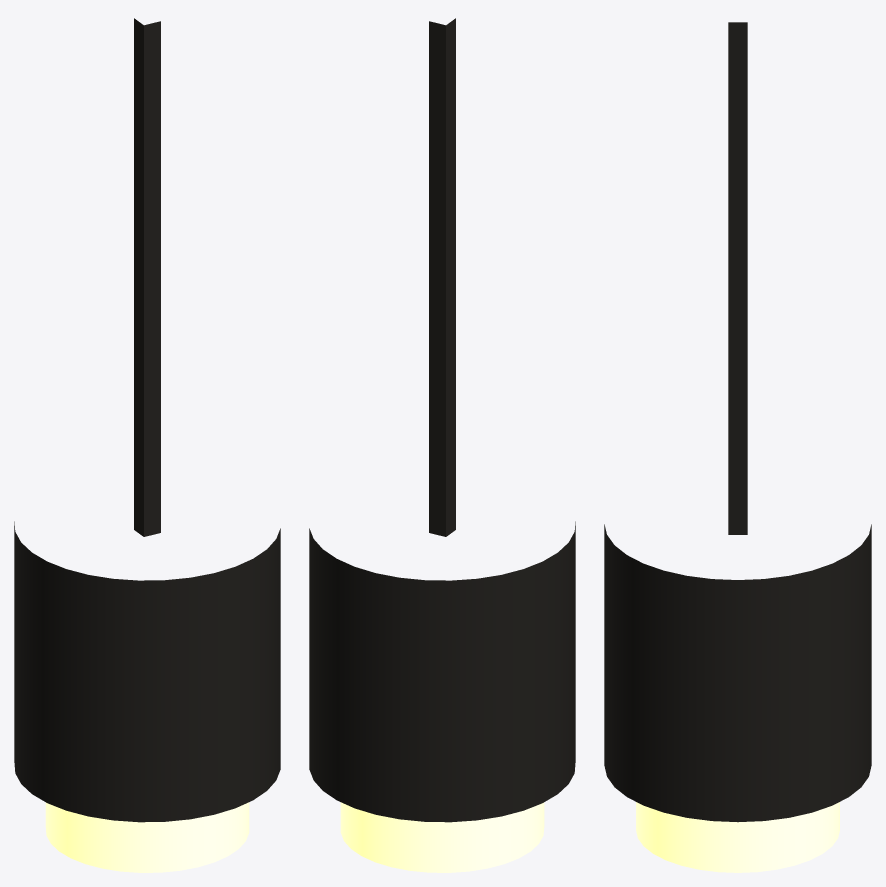
Rendered from pendant.glb.
3 renders of one model, left to right at view 1: azimuth 30°, elevation 25°; view 2: azimuth 150°, elevation 25°; view 3: azimuth 270°, elevation 25°, orthographic.
Bounding box in the file's own units: 0.34 × 1.14 × 0.34.
